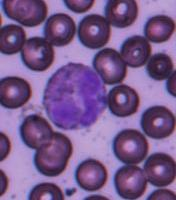E: (44, 62, 106, 130)
